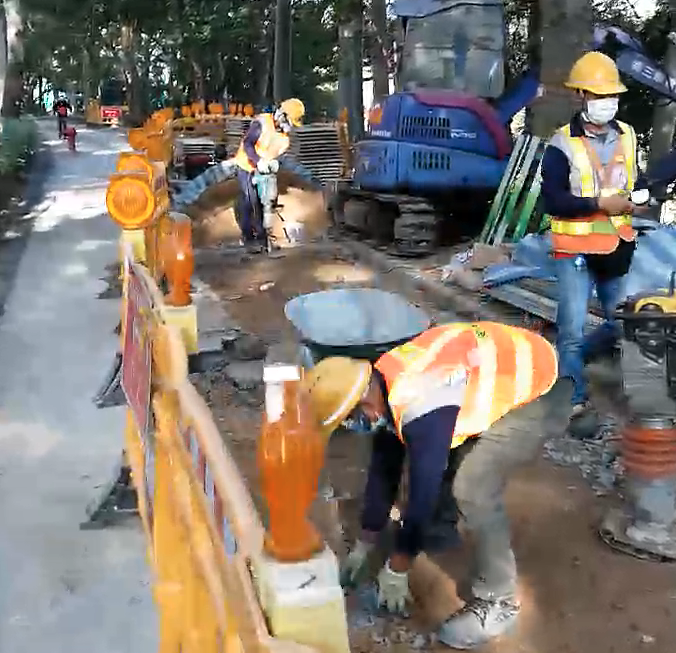Hard Hat: (309, 357, 386, 441), (567, 52, 625, 125), (274, 97, 307, 135)
Person: (310, 316, 559, 584), (550, 49, 642, 446), (240, 97, 305, 258)
Vest: (366, 321, 560, 443), (547, 89, 641, 255), (240, 114, 290, 176)
